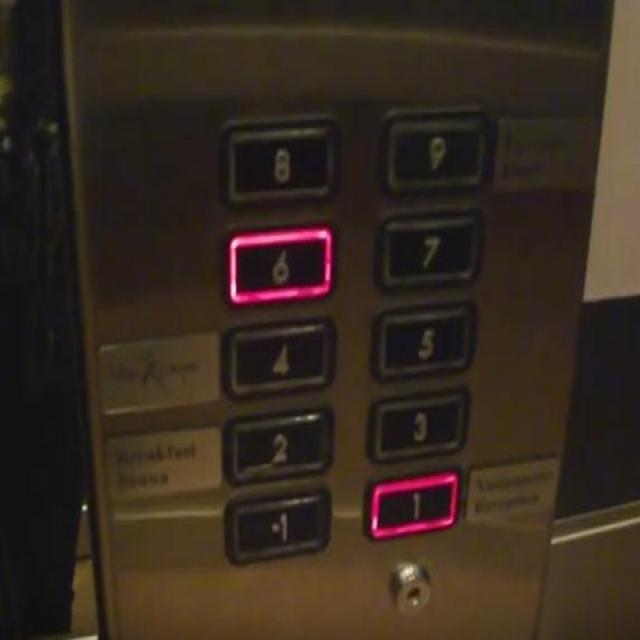-1: (221, 483, 334, 564)
1: (362, 470, 458, 538)
2: (222, 402, 335, 482)
3: (366, 385, 469, 460)
4: (222, 313, 336, 396)
5: (369, 299, 476, 377)
6: (219, 216, 339, 307)
7: (372, 206, 482, 286)
8: (217, 112, 338, 205)
9: (378, 100, 491, 196)
keyhole: (388, 559, 430, 613)
